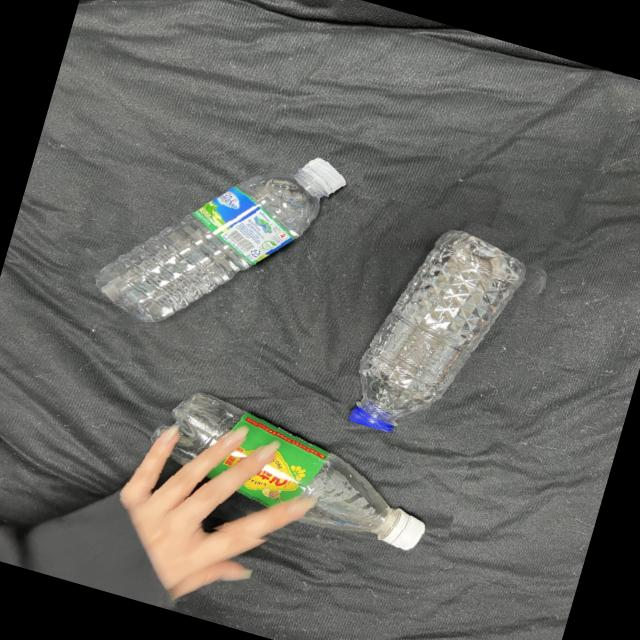plastic bottle: (138, 376, 455, 572), (323, 212, 545, 457), (83, 139, 361, 330)
